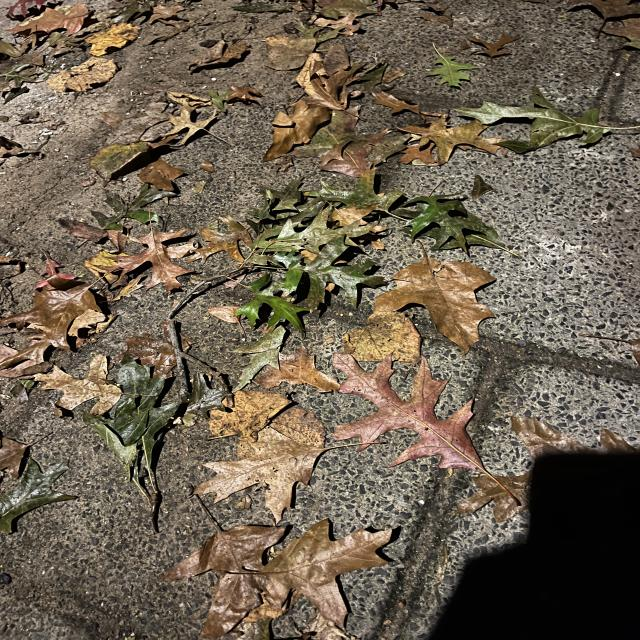leaves: (220, 191, 534, 525), (230, 0, 636, 172), (8, 253, 195, 516), (192, 534, 386, 640), (86, 93, 224, 239), (0, 1, 139, 91)
pavement: (533, 172, 640, 408), (3, 539, 166, 640), (1, 161, 70, 244)
